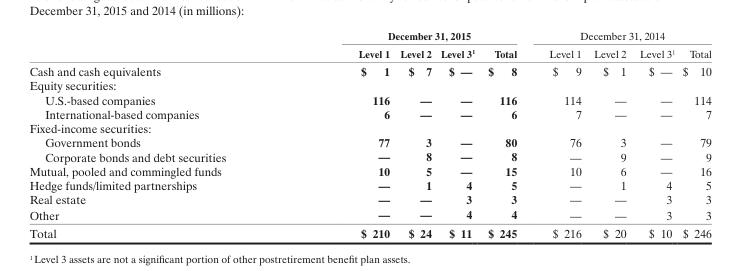table: (28, 28, 710, 239)
table column: (28, 28, 291, 239), (291, 28, 394, 239), (532, 28, 586, 239), (480, 28, 532, 239), (586, 28, 632, 239), (632, 28, 678, 239), (435, 28, 480, 239), (394, 28, 435, 239), (678, 28, 710, 239)
table column header: (28, 28, 710, 61)
table projected row header: (28, 120, 710, 135), (28, 78, 710, 92)
table row: (28, 44, 710, 61), (28, 61, 710, 78), (28, 206, 710, 223), (28, 28, 710, 44), (28, 223, 710, 239), (28, 120, 710, 135), (28, 191, 710, 206), (28, 78, 710, 92), (28, 92, 710, 106), (28, 106, 710, 120), (28, 135, 710, 149), (28, 149, 710, 163), (28, 163, 710, 177), (28, 177, 710, 191)
table spanning cell: (291, 28, 532, 44), (532, 28, 710, 44)
